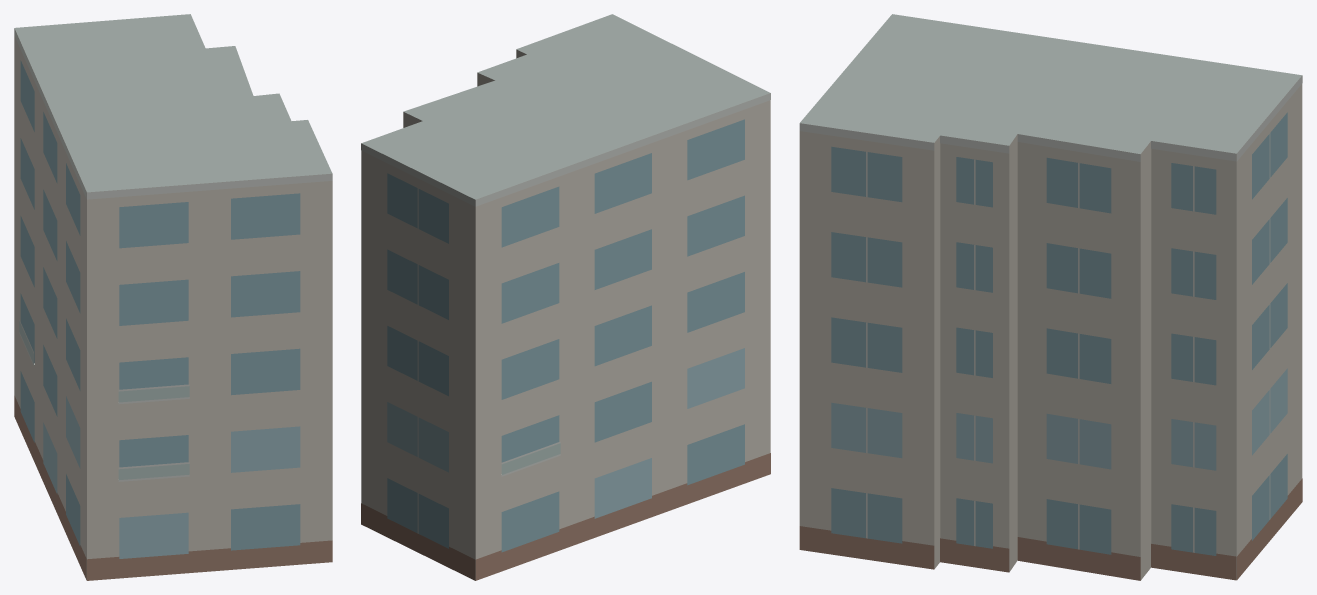
Rendered from survey-upis-32589640.glb.
The picture shows the model from 3 angles, left to right: view 1: azimuth 30°, elevation 25°; view 2: azimuth 150°, elevation 25°; view 3: azimuth 270°, elevation 25°; orthographic projection. The views are drawn at different scales.
Visible parts, largest first — view 1: survey-upis-32589640.tmp; view 2: survey-upis-32589640.tmp; view 3: survey-upis-32589640.tmp.
Part boxes in pixels (x1=…): survey-upis-32589640.tmp: x1=14, y1=14, x2=332, y2=580; survey-upis-32589640.tmp: x1=361, y1=14, x2=770, y2=580; survey-upis-32589640.tmp: x1=799, y1=14, x2=1302, y2=580.
Bounding box in the file's own units: 9.31 × 13.2 × 14.11.
